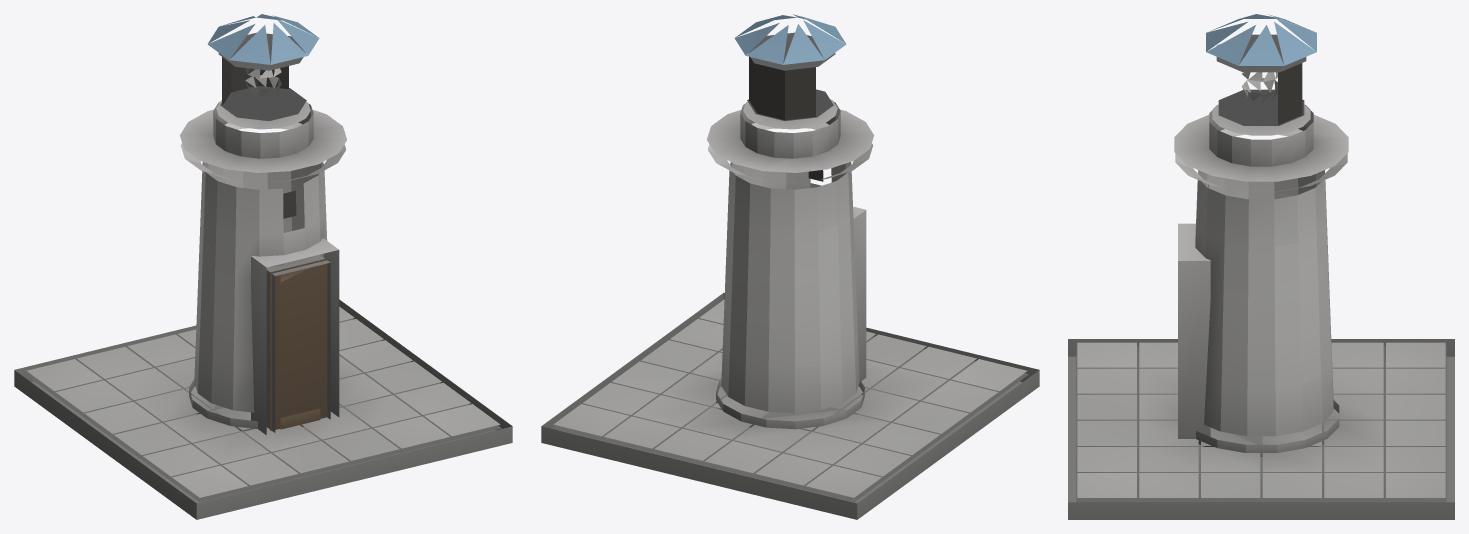
File: light.lod.glb
3 views of the same model, side by side, from view 1: azimuth 30°, elevation 25°; view 2: azimuth 150°, elevation 25°; view 3: azimuth 270°, elevation 25° (orthographic). The views are drawn at different scales.
Visible parts, largest first — view 1: light; view 2: light; view 3: light.
Part boxes in pixels (bbox=[...]): light: bbox=[14, 14, 512, 519]; light: bbox=[541, 14, 1039, 519]; light: bbox=[1068, 14, 1454, 519].
Bounding box in the file's own units: 5.2 × 6.21 × 5.2.
